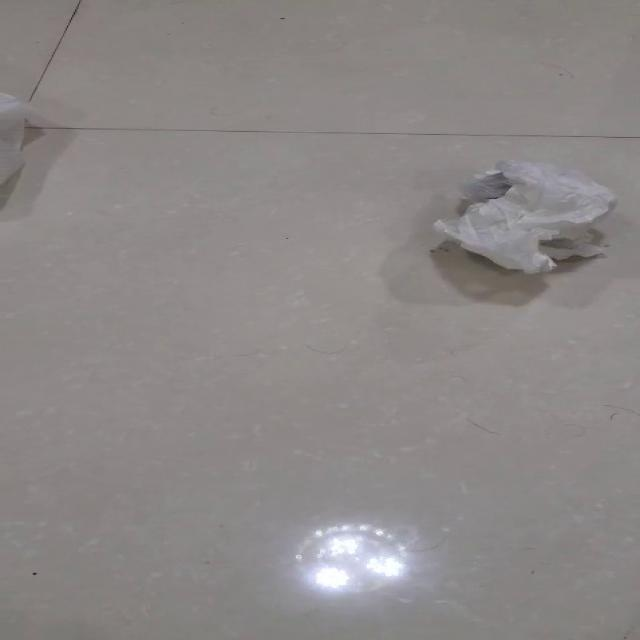plastic: (431, 158, 616, 274)
